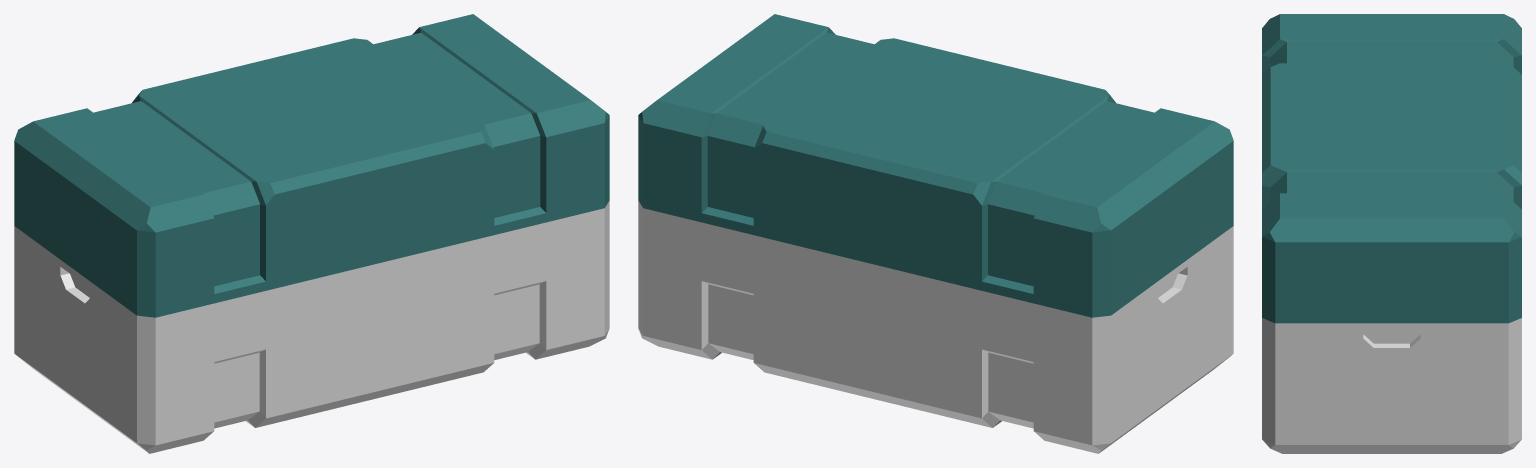
File: Chest.fbx
3 views of the same model, side by side, from view 1: azimuth 30°, elevation 25°; view 2: azimuth 150°, elevation 25°; view 3: azimuth 270°, elevation 25° (orthographic). The views are drawn at different scales.
Parts seen in each view (by area): view 1: ChestRoof, ChestBase; view 2: ChestRoof, ChestBase; view 3: ChestRoof, ChestBase.
Boxes of the visible parts, box(x1,y1,x2,y2) form: ChestRoof: box(14, 14, 609, 317); ChestBase: box(14, 201, 609, 453); ChestRoof: box(638, 14, 1233, 317); ChestBase: box(638, 201, 1233, 453); ChestRoof: box(1262, 14, 1521, 323); ChestBase: box(1262, 318, 1521, 453).
Size of the model in its own units: 400 by 200 by 200.
